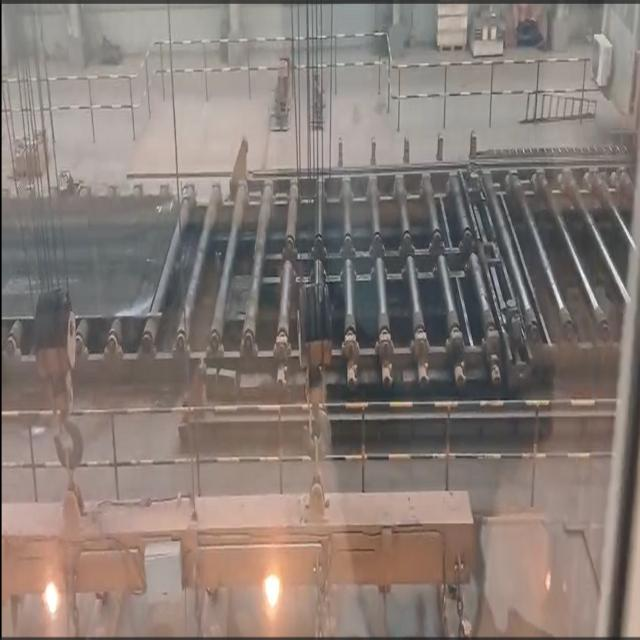warningzone: (148, 169, 634, 394)
